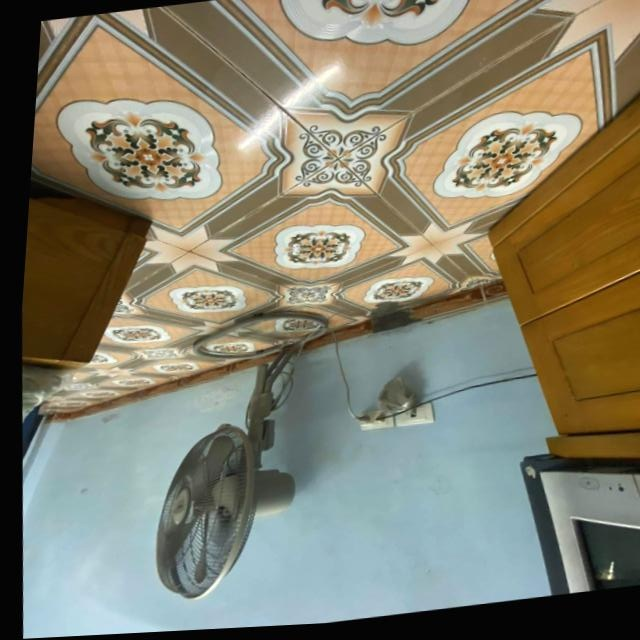outlet: (392, 401, 435, 428), (356, 408, 395, 432)
